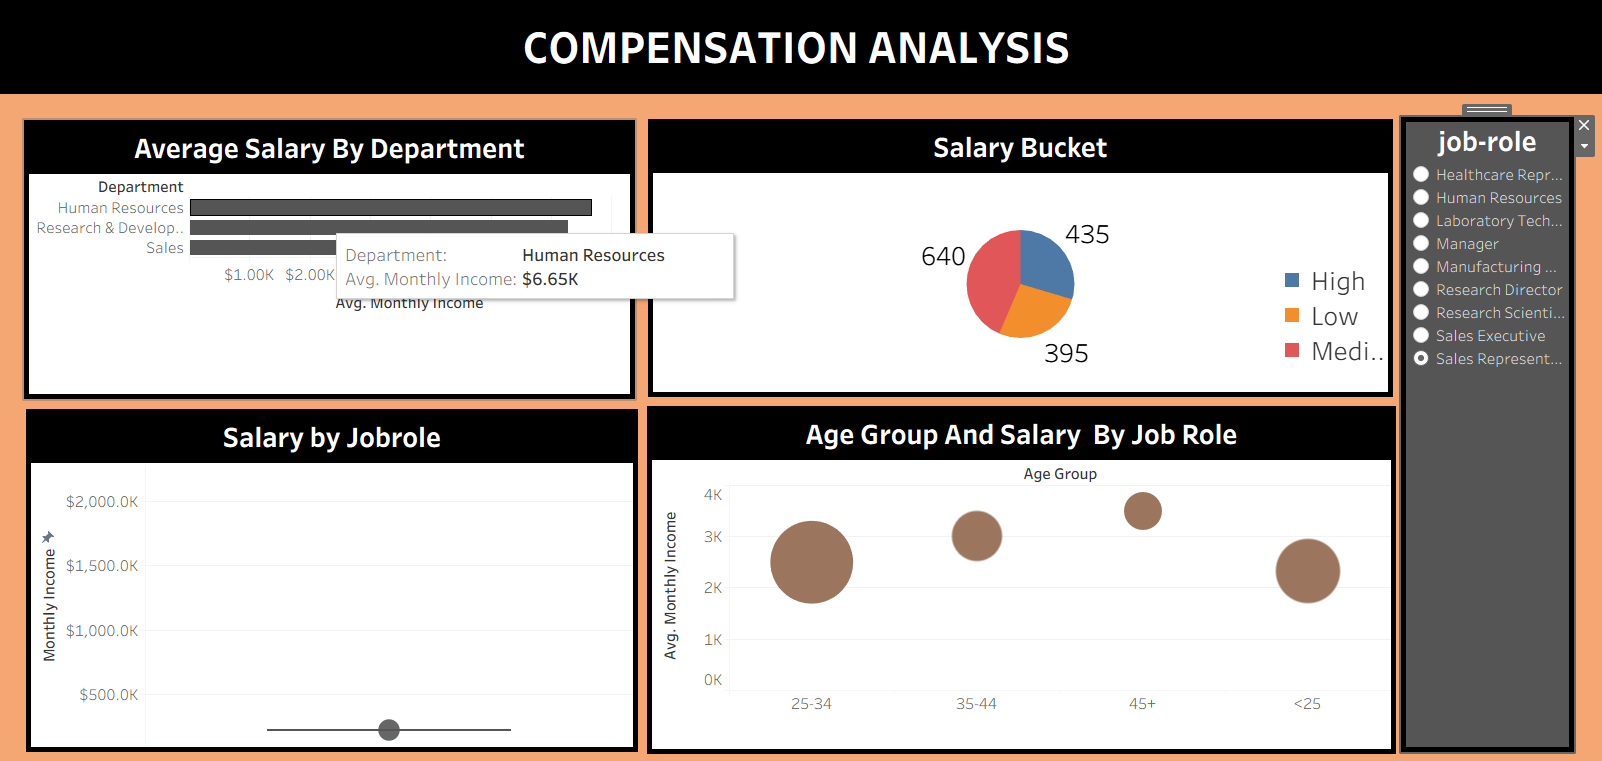

This screenshot's page, from the dashboard's own definition file:
{"tool":"tableau","page":{"name":"compensation dashboard","canvas":[1000,1000],"units":"permille","ordinal":3},"visuals":[{"type":"text","box":[5.2,10.2,949.4,123.6]},{"type":"parameter","param":"[Parameters].[Parameter 2]","box":[831.4,163.1,100.6,808.9]},{"type":"worksheet","title":"Salary Bucket","mark":"Pie","box":[393.6,165.6,433.1,354.1]},{"type":"worksheet","title":"Average Salary By Department","mark":"Automatic","rows":["Department"],"cols":["MonthlyIncome"],"box":[30.8,166.9,355.2,355.4]},{"type":"legend","title":"Salary Bucket","param":"[federated.1v0735d1v0hdn81e72mz80033qba].[none:Calculation_1400056542105960459:n","box":[758.1,349,68,168.2]},{"type":"worksheet","title":"Age Group And Salary  By Job Role","mark":"Circle","rows":["MonthlyIncome"],"cols":["Calculation_1400056542042988552"],"box":[393,531.2,435.5,443.3]},{"type":"worksheet","title":"Salary by Jobrole","mark":"Circle","rows":["MonthlyIncome"],"box":[32,535,355.8,436.9]}]}

Visuals, with their boxes on the dashboard's canvas, which has no fixed pixel size, in thousandths of its width and height (x1, y1, x2, y2). These are canvas units, not pixel positions in the 1602x761 screenshot, which may show the page scaled, cropped or inside an application window:
text: crop(5, 10, 955, 134)
parameter: crop(831, 163, 932, 972)
"Salary Bucket" worksheet (Pie marks): crop(394, 166, 827, 520)
"Average Salary By Department" worksheet: crop(31, 167, 386, 522)
"Salary Bucket" legend: crop(758, 349, 826, 517)
"Age Group And Salary  By Job Role" worksheet (Circle marks): crop(393, 531, 828, 974)
"Salary by Jobrole" worksheet (Circle marks): crop(32, 535, 388, 972)
